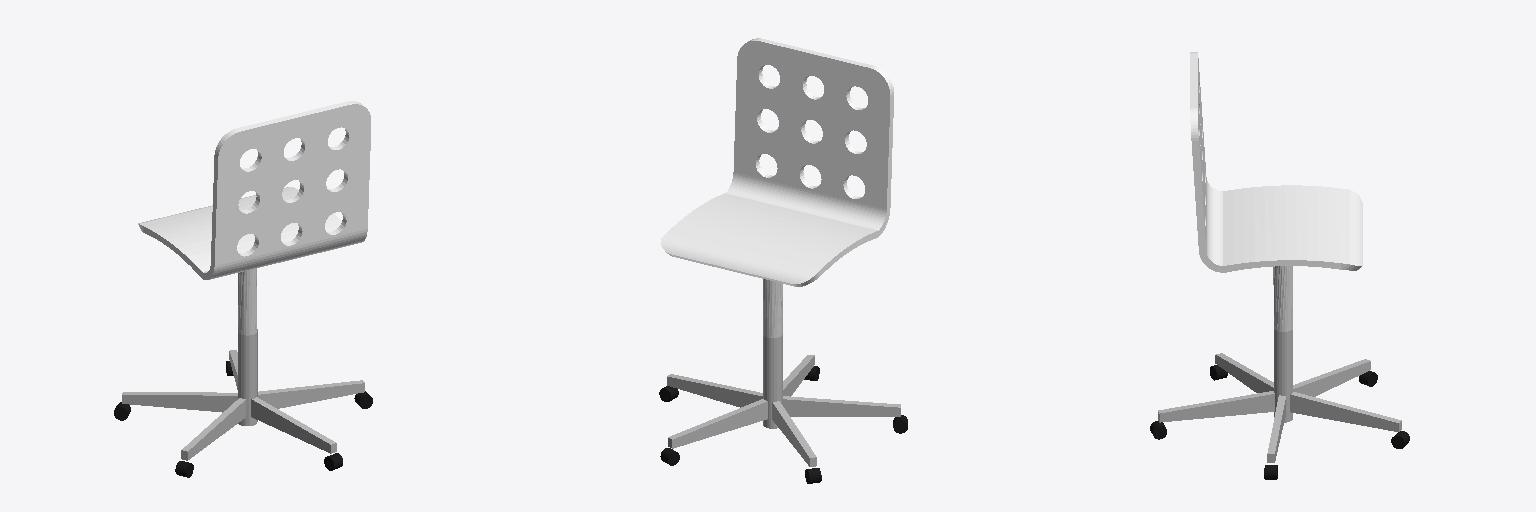
3 views of the same model, side by side, from view 1: azimuth 30°, elevation 25°; view 2: azimuth 150°, elevation 25°; view 3: azimuth 270°, elevation 25° (orthographic).
Visible parts, largest first — view 1: Mesh1 Group2 Group1 Model, Mesh12 Group3 ske3F1 Group1 Model, Mesh7 Group6 Group3 ske3F1 Group1 Model, Mesh11 Group8 Group3 ske3F1 Group1 Model, Mesh5 Group5 Group3 ske3F1 Group1 Model, Mesh9 Group7 Group3 ske3F1 Group1 Model; view 2: Mesh1 Group2 Group1 Model, Mesh12 Group3 ske3F1 Group1 Model, Mesh9 Group7 Group3 ske3F1 Group1 Model, Mesh3 Group4 Group3 ske3F1 Group1 Model, Mesh11 Group8 Group3 ske3F1 Group1 Model, Mesh7 Group6 Group3 ske3F1 Group1 Model, Mesh5 Group5 Group3 ske3F1 Group1 Model; view 3: Mesh1 Group2 Group1 Model, Mesh12 Group3 ske3F1 Group1 Model, Mesh5 Group5 Group3 ske3F1 Group1 Model, Mesh3 Group4 Group3 ske3F1 Group1 Model, Mesh7 Group6 Group3 ske3F1 Group1 Model, Mesh9 Group7 Group3 ske3F1 Group1 Model, Mesh11 Group8 Group3 ske3F1 Group1 Model.
Boxes of the visible parts, x1,y1,x2,y2 form: Mesh1 Group2 Group1 Model: [138, 101, 370, 279]; Mesh12 Group3 ske3F1 Group1 Model: [238, 268, 257, 425]; Mesh7 Group6 Group3 ske3F1 Group1 Model: [122, 392, 237, 412]; Mesh11 Group8 Group3 ske3F1 Group1 Model: [258, 380, 364, 408]; Mesh5 Group5 Group3 ske3F1 Group1 Model: [251, 397, 336, 453]; Mesh9 Group7 Group3 ske3F1 Group1 Model: [181, 398, 245, 460]; Mesh1 Group2 Group1 Model: [661, 38, 893, 286]; Mesh12 Group3 ske3F1 Group1 Model: [763, 279, 782, 428]; Mesh9 Group7 Group3 ske3F1 Group1 Model: [782, 396, 900, 416]; Mesh3 Group4 Group3 ske3F1 Group1 Model: [668, 399, 767, 448]; Mesh11 Group8 Group3 ske3F1 Group1 Model: [667, 374, 762, 407]; Mesh7 Group6 Group3 ske3F1 Group1 Model: [772, 401, 816, 466]; Mesh5 Group5 Group3 ske3F1 Group1 Model: [783, 355, 814, 396]; Mesh1 Group2 Group1 Model: [1190, 52, 1362, 272]; Mesh12 Group3 ske3F1 Group1 Model: [1273, 266, 1292, 422]; Mesh5 Group5 Group3 ske3F1 Group1 Model: [1158, 391, 1274, 422]; Mesh3 Group4 Group3 ske3F1 Group1 Model: [1290, 392, 1401, 431]; Mesh7 Group6 Group3 ske3F1 Group1 Model: [1293, 359, 1370, 396]; Mesh9 Group7 Group3 ske3F1 Group1 Model: [1215, 353, 1273, 392]; Mesh11 Group8 Group3 ske3F1 Group1 Model: [1267, 395, 1285, 462].
Size of the model in its own units: 0.5382 by 0.804 by 0.5487.